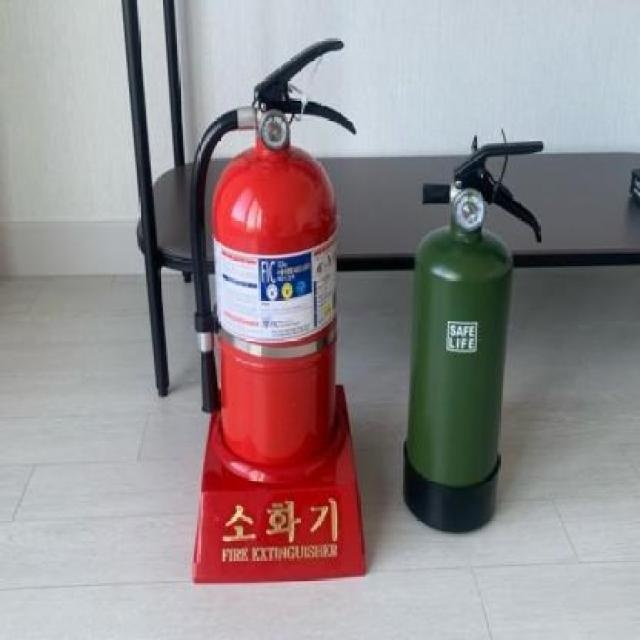fire extinguisher: (189, 38, 357, 465), (403, 129, 545, 533)
